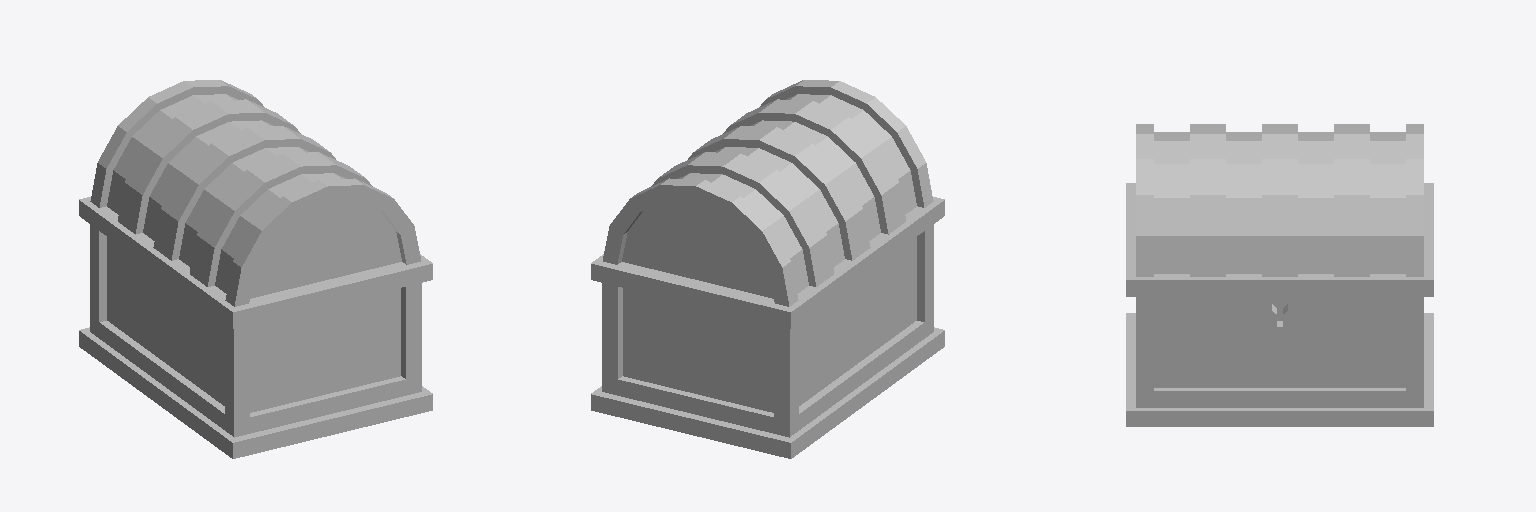
File: OBJChest.obj
3 views of the same model, side by side, from view 1: azimuth 30°, elevation 25°; view 2: azimuth 150°, elevation 25°; view 3: azimuth 270°, elevation 25° (orthographic).
Visible parts, largest first — view 1: chest_2:Mesh; view 2: chest_2:Mesh; view 3: chest_2:Mesh.
Part boxes in pixels (x1,y1,x2,y2): chest_2:Mesh: (79,80,432,458); chest_2:Mesh: (591,80,944,458); chest_2:Mesh: (1126,124,1433,426).
Bounding box in the file's own units: 0.6431 × 0.75 × 0.8574.